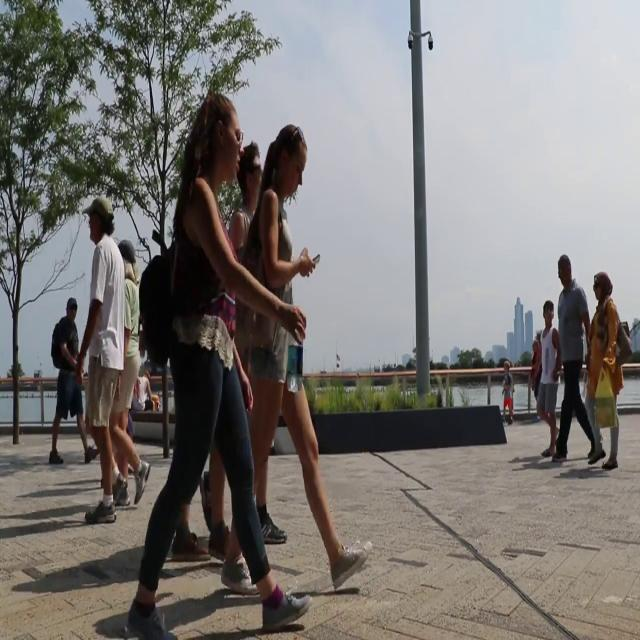normal: (80, 193, 153, 523)
